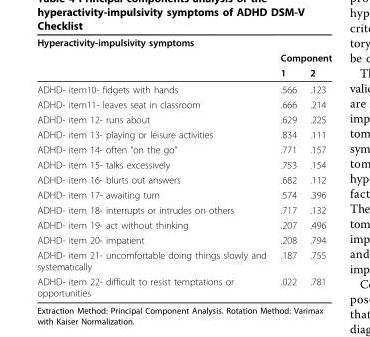table: (36, 36, 331, 298)
table column: (36, 36, 272, 298), (272, 36, 302, 298), (302, 36, 331, 298)
table column header: (36, 36, 331, 80)
table row: (36, 247, 331, 273), (36, 273, 331, 298), (36, 64, 331, 80), (36, 80, 331, 96), (36, 186, 331, 202), (36, 49, 331, 64), (36, 96, 331, 111), (36, 111, 331, 126), (36, 126, 331, 141), (36, 141, 331, 156), (36, 156, 331, 171), (36, 171, 331, 186), (36, 202, 331, 217), (36, 217, 331, 232), (36, 232, 331, 247), (36, 36, 331, 49)
table spanning cell: (36, 36, 272, 80), (272, 49, 331, 64)
